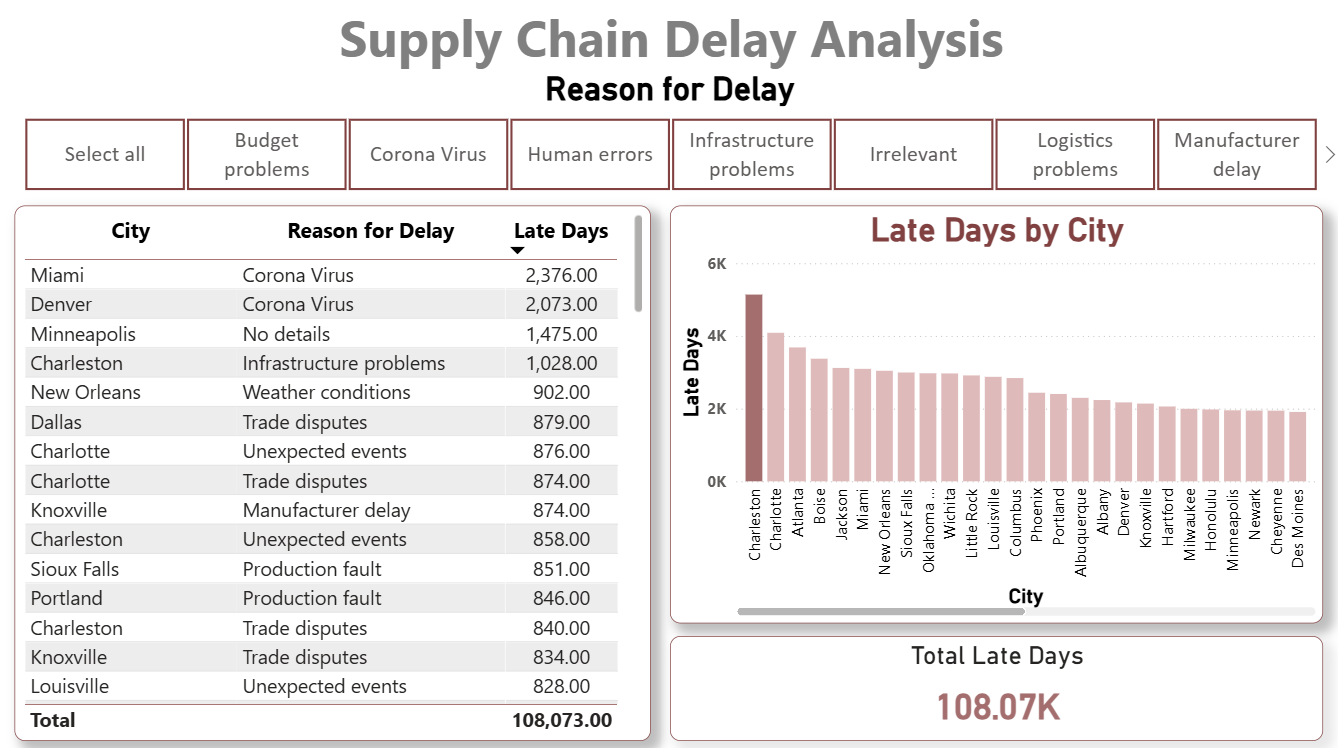

The page's visual inventory and layout, read from the dashboard file:
{"tool":"powerbi","page":{"name":"Supply Chain Delay Analysis","canvas":[1280,720],"ordinal":3},"visuals":[{"type":"textbox","box":[272,0,740,84],"z":0},{"type":"tableEx","fields":{"Values":["Dim_Geography.City","Dim_Operational.Reason for Delay","Sum(Fact_Online_Sales.Num Late Days)"]},"box":[16,198,606,510],"z":1000},{"type":"clusteredColumnChart","title":"Late Days by City","fields":{"Y":["Sum(Fact_Online_Sales.Num Late Days)"],"Category":["Dim_Geography.City"]},"box":[640,198,622,398],"z":2000},{"type":"card","title":"Total Late Days","fields":{"Values":["Sum(Fact_Online_Sales.Num Late Days)"]},"box":[640,608,622,100],"z":3000},{"type":"slicer","title":"Reason for Delay","fields":{"Values":["Dim_Operational.Reason for Delay"]},"box":[0,68,1280,118],"z":4000}]}

Visuals, with their boxes in screenshot pixels (x1, y1, x2, y2), scaled from the page's 1280x720 canvas onto the 1338x748 screenshot:
textbox: box(284, 0, 1058, 87)
tableEx - Dim_Geography.City x Dim_Operational.Reason for Delay: box(17, 206, 650, 736)
"Late Days by City" clusteredColumnChart: box(669, 206, 1319, 619)
"Total Late Days" card: box(669, 632, 1319, 736)
"Reason for Delay" slicer: box(0, 71, 1337, 193)
